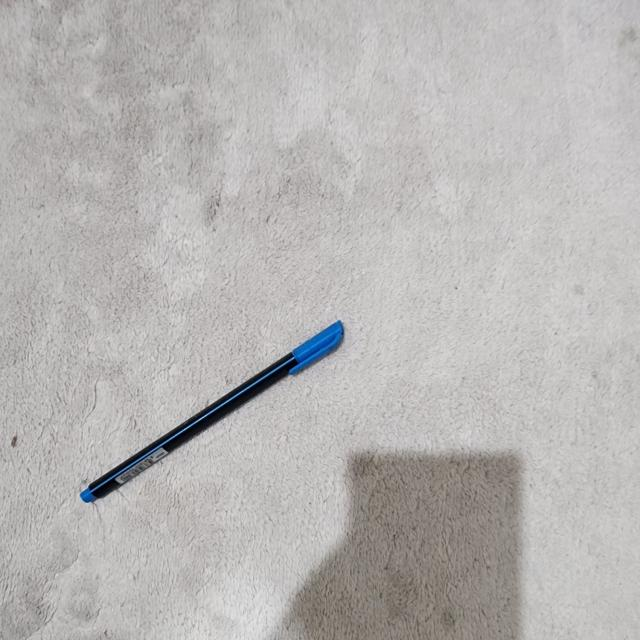kalem1: (79, 321, 344, 503)
